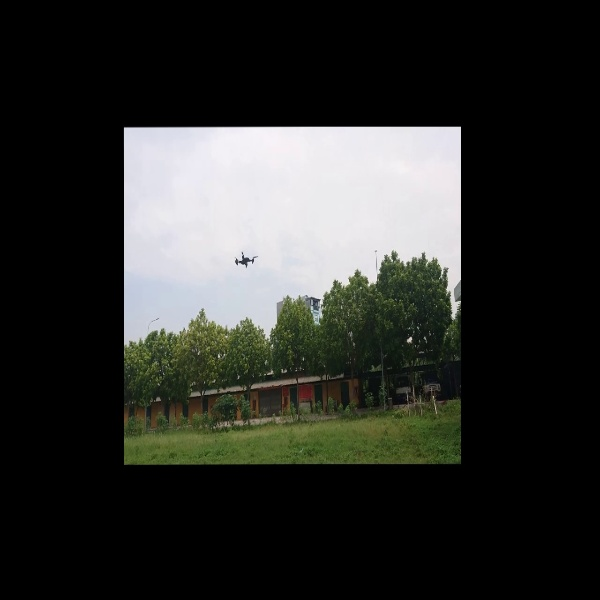drone: (228, 249, 260, 271)
